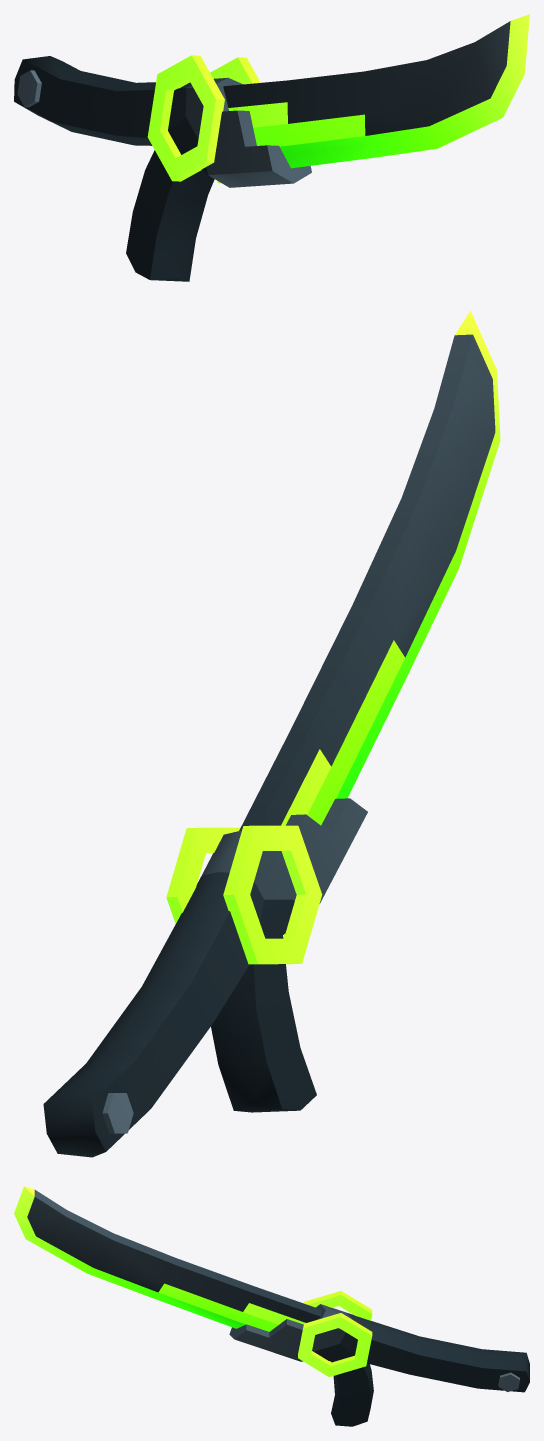
File: Level4Sword.fbx
The picture shows the model from 3 angles, top to bottom: view 1: azimuth 30°, elevation 25°; view 2: azimuth 150°, elevation 25°; view 3: azimuth 270°, elevation 25°; orthographic projection. The views are drawn at different scales.
Parts seen in each view (by area): view 1: Sword_01_Green; view 2: Sword_01_Green; view 3: Sword_01_Green.
Boxes of the visible parts, x1,y1,x2,y2 form: Sword_01_Green: [14, 14, 529, 281]; Sword_01_Green: [43, 311, 500, 1157]; Sword_01_Green: [14, 1186, 529, 1426].
Bounding box in the file's own units: 18.04 × 56.25 × 98.37.
1 material, 1 textured.
